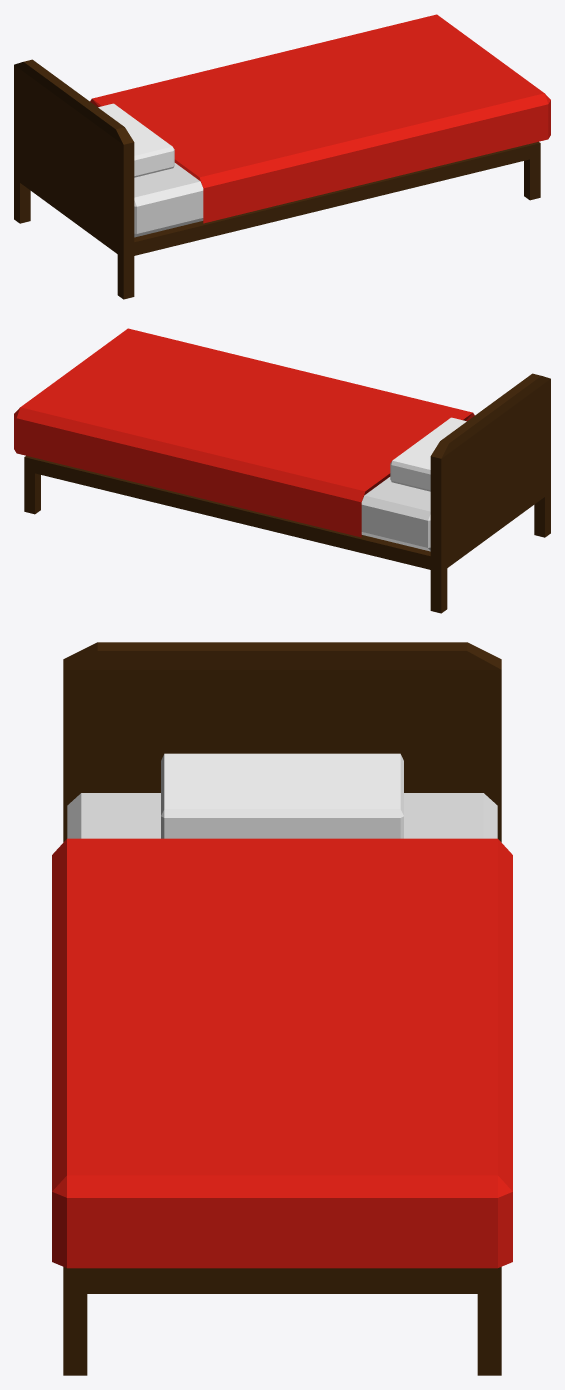
The model's file is Bed.fbx.
3 views of the same model, one above another, from view 1: azimuth 30°, elevation 25°; view 2: azimuth 150°, elevation 25°; view 3: azimuth 270°, elevation 25° (orthographic). The views are drawn at different scales.
Visible parts, largest first — view 1: Matress, Frame, Pillow; view 2: Matress, Frame, Pillow; view 3: Matress, Frame, Pillow.
Part boxes in pixels (box(x1,y1,x2,y2)): Matress: box(90, 14, 550, 237); Frame: box(14, 59, 540, 299); Pillow: box(98, 103, 174, 177); Matress: box(14, 328, 474, 551); Frame: box(24, 373, 550, 613); Pillow: box(390, 417, 466, 491); Matress: box(52, 793, 512, 1268); Frame: box(63, 642, 501, 1375); Pillow: box(161, 753, 403, 838).
Bounding box in the file's own units: 205 × 74.99 × 95.68.
